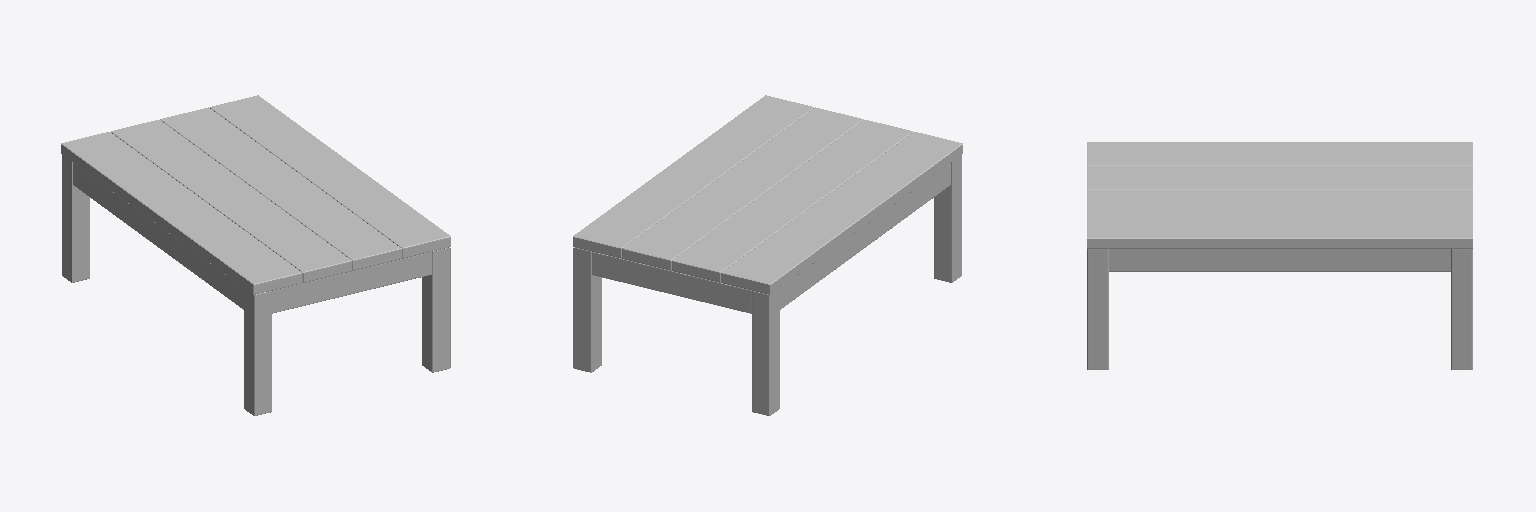
File: WoodenTable.obj
3 views of the same model, side by side, from view 1: azimuth 30°, elevation 25°; view 2: azimuth 150°, elevation 25°; view 3: azimuth 270°, elevation 25° (orthographic).
Visible parts, largest first — view 1: Cube.011_Cube.018; view 2: Cube.011_Cube.018; view 3: Cube.011_Cube.018.
Part boxes in pixels (bbox=[...]): Cube.011_Cube.018: bbox=[61, 95, 450, 415]; Cube.011_Cube.018: bbox=[573, 95, 962, 415]; Cube.011_Cube.018: bbox=[1087, 142, 1472, 369].
Bounding box in the file's own units: 5.37 × 3.43 × 9.06.